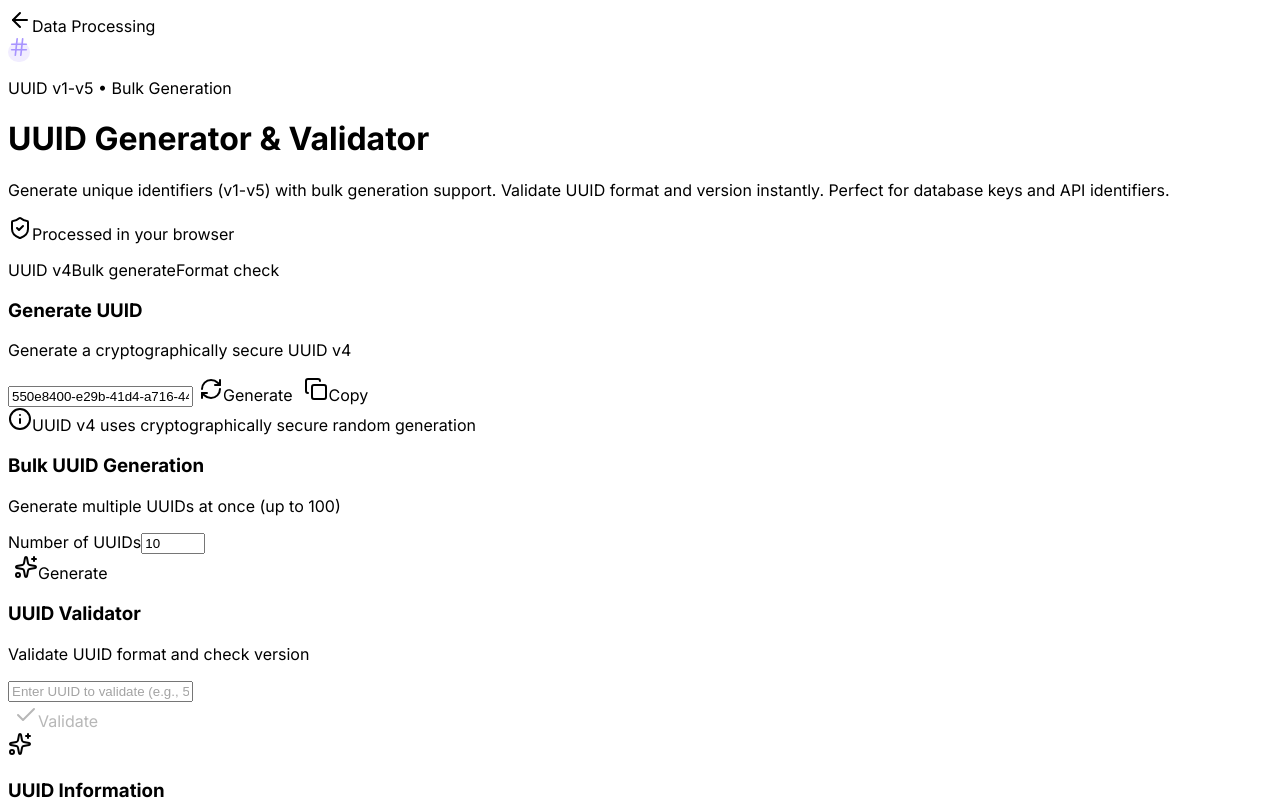
UUID Generator Page › UUID Validation › clears validation result when input changes
Replace the text in the field with placeholder "Enter UUID to validate" with "550e8400-e29b-41d4-a716-446655440000" at (100, 692), box [8,681,193,702]
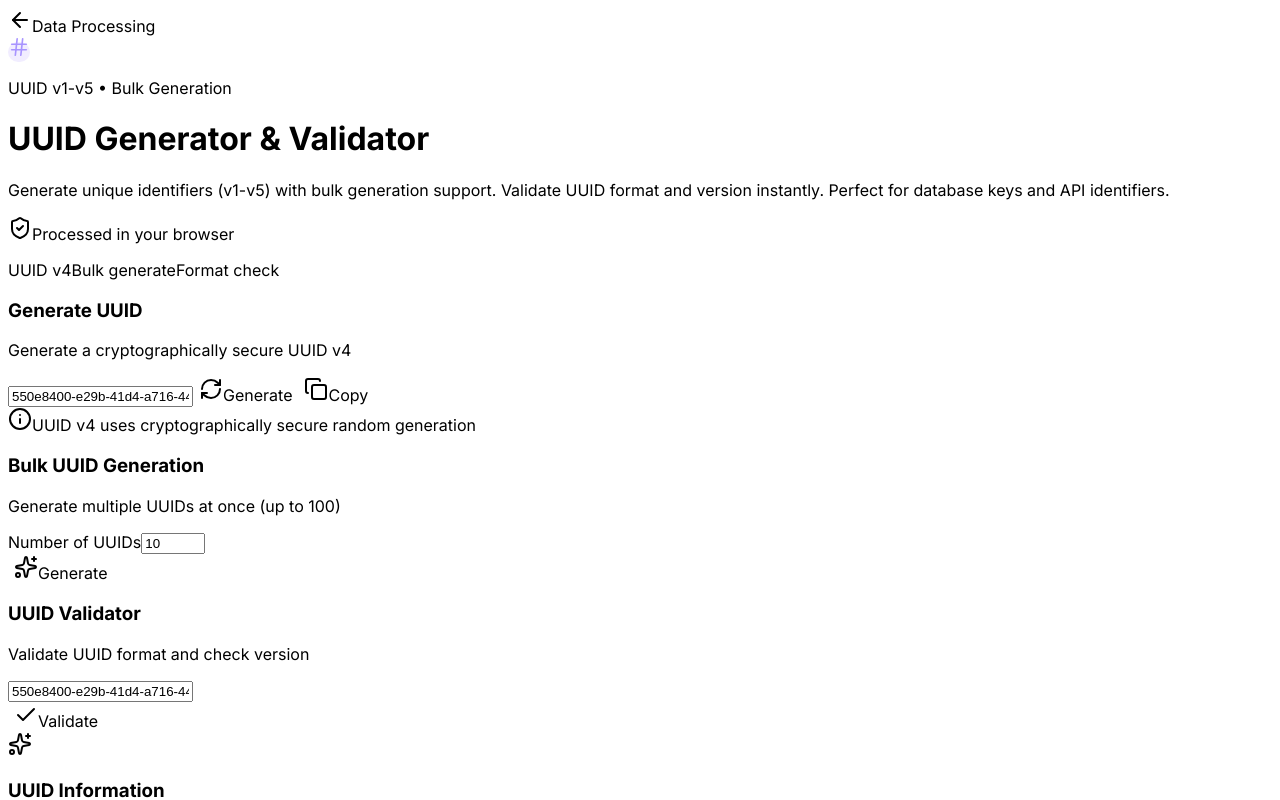
Click the button "Validate" at (56, 717), box [8,702,104,732]
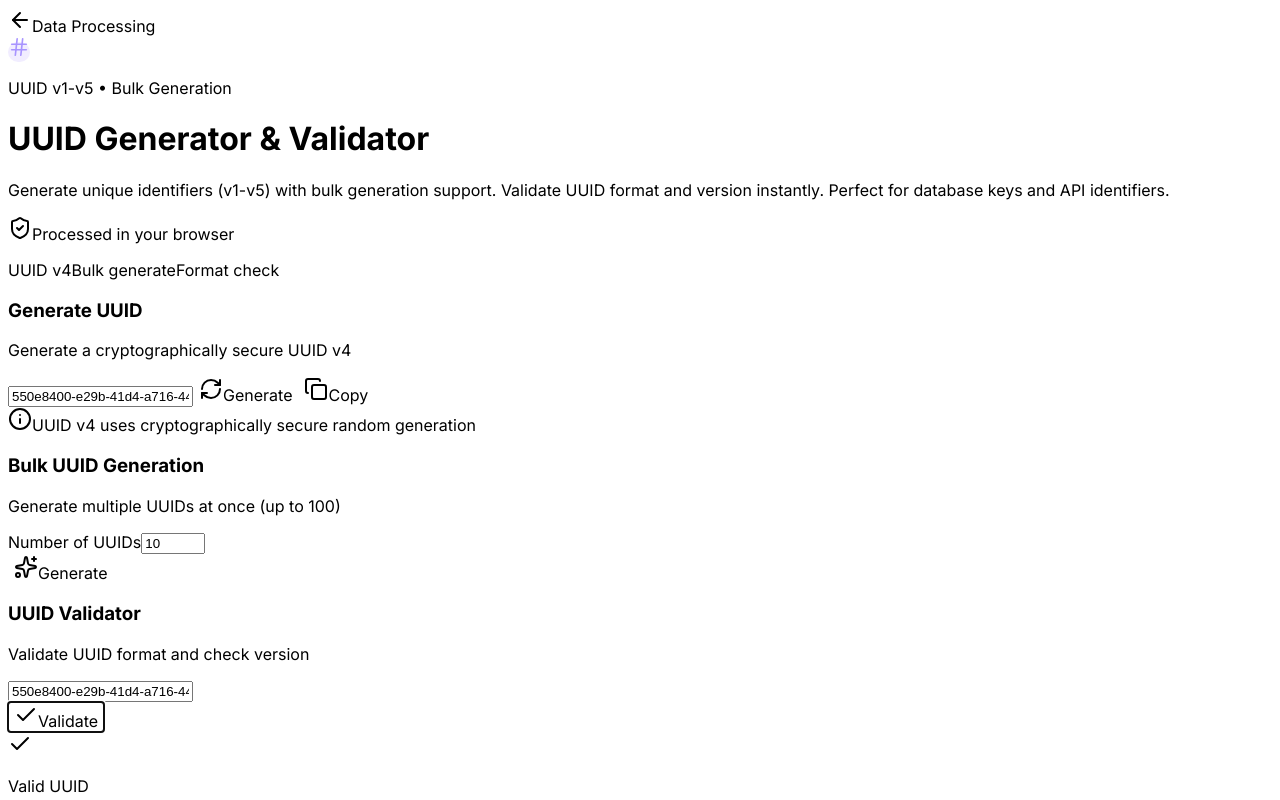
Now the text "Valid UUID" is shown, box [8,776,89,796]
Change input
Replace the text in the field with placeholder "Enter UUID to validate" below "Validate UUID format and check version" with "new-input" at (100, 692), box [8,681,193,702]
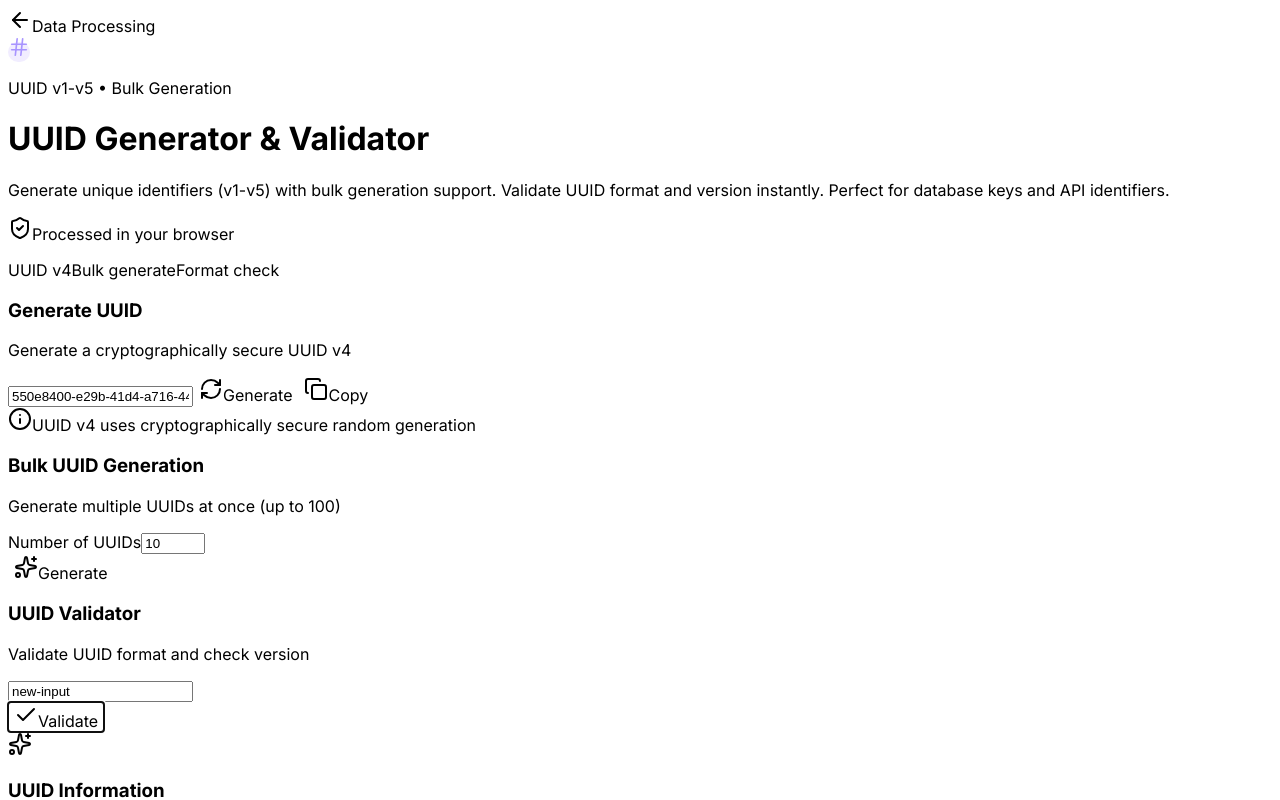
Now the text "Valid UUID" is gone
